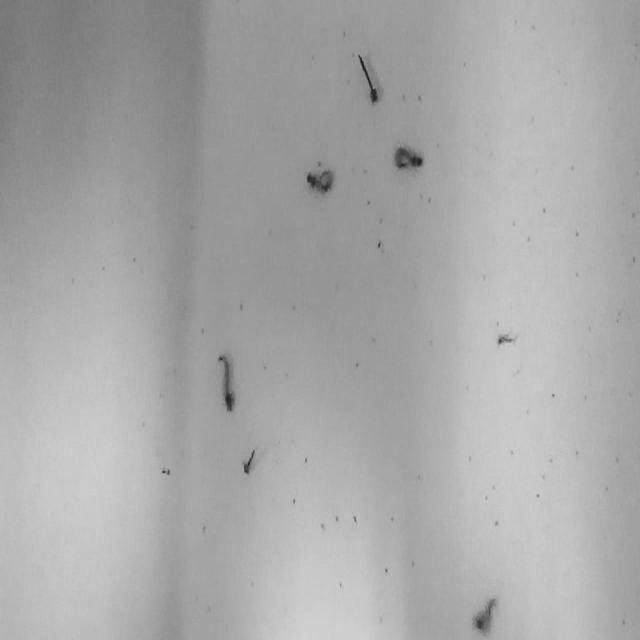larvas: (357, 52, 378, 104), (216, 352, 234, 410), (473, 597, 496, 633), (393, 144, 423, 170), (306, 168, 334, 193), (242, 447, 256, 474), (496, 333, 517, 344)
